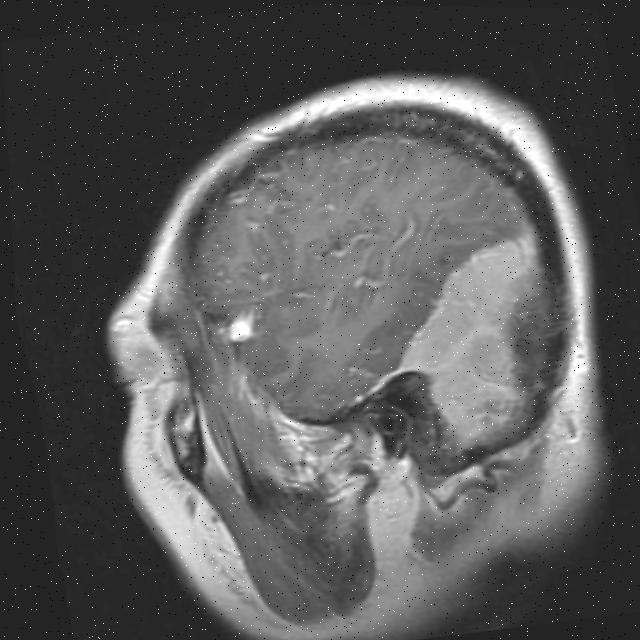Meningioma: (377, 233, 561, 446)
